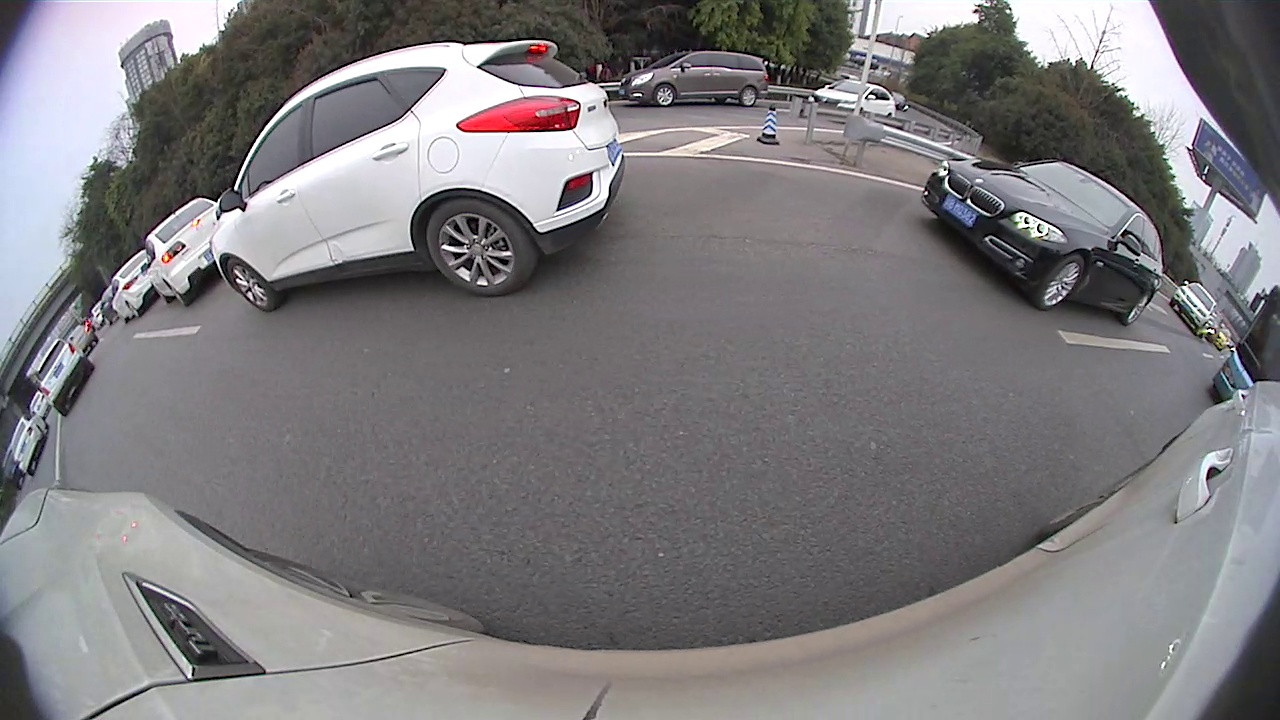car: (206, 37, 628, 316), (923, 157, 1168, 327), (620, 47, 772, 109), (139, 197, 223, 309), (26, 333, 98, 417), (107, 243, 159, 325), (807, 77, 899, 123), (5, 408, 54, 480), (1168, 278, 1220, 338)
front: (1034, 252, 1090, 314), (226, 256, 281, 315), (652, 83, 676, 109)
rear: (420, 198, 537, 300), (1120, 289, 1154, 327), (739, 84, 760, 109)
